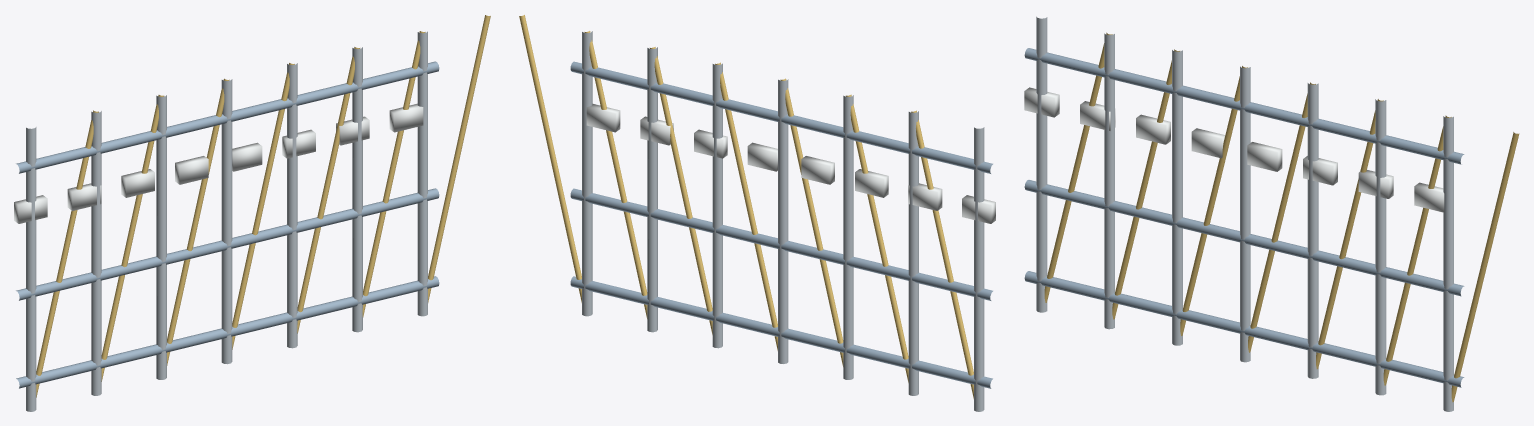
Rendered from 02_L86_StationExteriorServiceTruss.glb.
3 views of the same model, side by side, from view 1: azimuth 30°, elevation 25°; view 2: azimuth 150°, elevation 25°; view 3: azimuth 330°, elevation 25° (orthographic). The views are drawn at different scales.
Parts seen in each view (by area): view 1: L86_StationExteriorServiceTru_Part_0000, L86_StationExteriorServiceTru_Part_0002, L86_StationExteriorServiceTru_Part_0001, L86_StationExteriorServiceTru_Part_0003; view 2: L86_StationExteriorServiceTru_Part_0000, L86_StationExteriorServiceTru_Part_0002, L86_StationExteriorServiceTru_Part_0001, L86_StationExteriorServiceTru_Part_0003; view 3: L86_StationExteriorServiceTru_Part_0000, L86_StationExteriorServiceTru_Part_0002, L86_StationExteriorServiceTru_Part_0001, L86_StationExteriorServiceTru_Part_0003.
Boxes of the visible parts, bbox=[...] form: L86_StationExteriorServiceTru_Part_0000: bbox=[26, 31, 427, 411]; L86_StationExteriorServiceTru_Part_0002: bbox=[16, 61, 439, 388]; L86_StationExteriorServiceTru_Part_0001: bbox=[36, 15, 490, 397]; L86_StationExteriorServiceTru_Part_0003: bbox=[14, 103, 423, 223]; L86_StationExteriorServiceTru_Part_0000: bbox=[582, 31, 984, 411]; L86_StationExteriorServiceTru_Part_0002: bbox=[570, 61, 992, 388]; L86_StationExteriorServiceTru_Part_0001: bbox=[519, 15, 973, 398]; L86_StationExteriorServiceTru_Part_0003: bbox=[586, 104, 995, 223]; L86_StationExteriorServiceTru_Part_0000: bbox=[1036, 16, 1453, 411]; L86_StationExteriorServiceTru_Part_0002: bbox=[1024, 48, 1464, 387]; L86_StationExteriorServiceTru_Part_0001: bbox=[1044, 32, 1519, 402]; L86_StationExteriorServiceTru_Part_0003: bbox=[1024, 87, 1444, 212].
Size of the model in its own units: 10.16 by 5.83 by 0.2.
